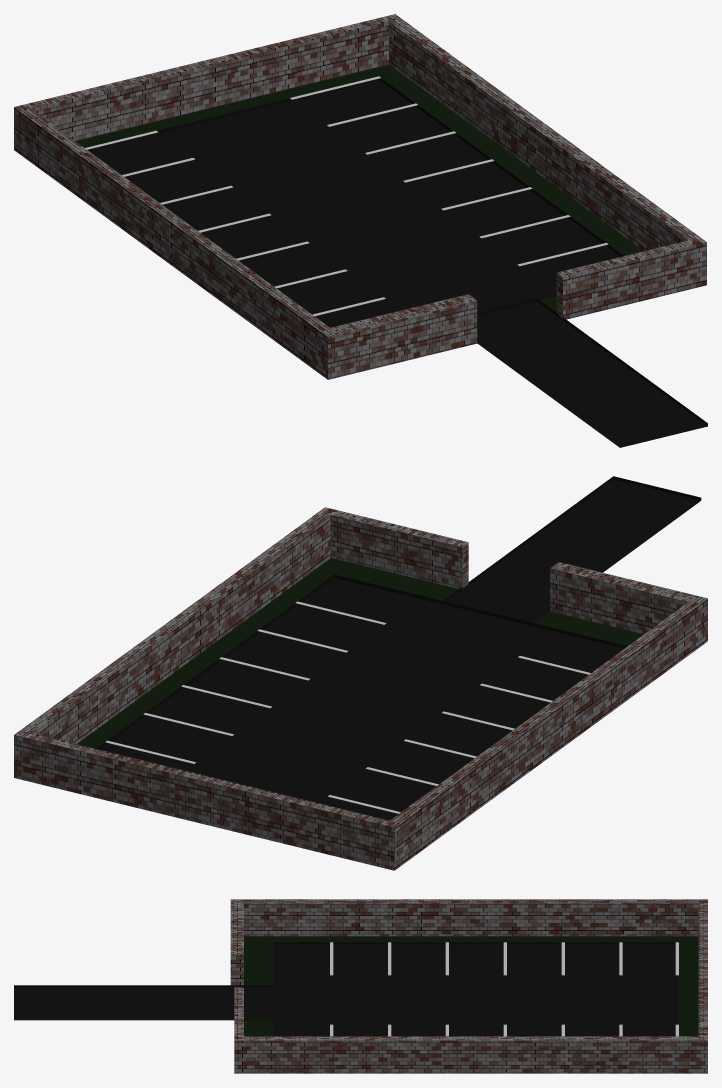
The model's file is ParkingArea2.glb.
The picture shows the model from 3 angles, top to bottom: view 1: azimuth 30°, elevation 25°; view 2: azimuth 150°, elevation 25°; view 3: azimuth 270°, elevation 25°; orthographic projection. The views are drawn at different scales.
Parts seen in each view (by area): view 1: mesh_id5, mesh_id8, mesh_id7, mesh_id6; view 2: mesh_id5, mesh_id8, mesh_id7, mesh_id6; view 3: mesh_id5, mesh_id8, mesh_id7, mesh_id6.
Part boxes in pixels (x1,y1,x2,y2): mesh_id5: (87,78,707,447); mesh_id8: (14,14,706,379); mesh_id7: (75,64,643,312); mesh_id6: (85,76,608,316); mesh_id5: (96,476,701,820); mesh_id8: (14,507,707,870); mesh_id7: (77,558,643,748); mesh_id6: (105,601,590,813); mesh_id5: (14,942,678,1036); mesh_id8: (230,899,707,1073); mesh_id7: (244,936,698,1036); mesh_id6: (330,942,678,1036).
Bounding box in the file's own units: 0.512 × 0.0553 × 1.06.
4 materials, 4 textured.
